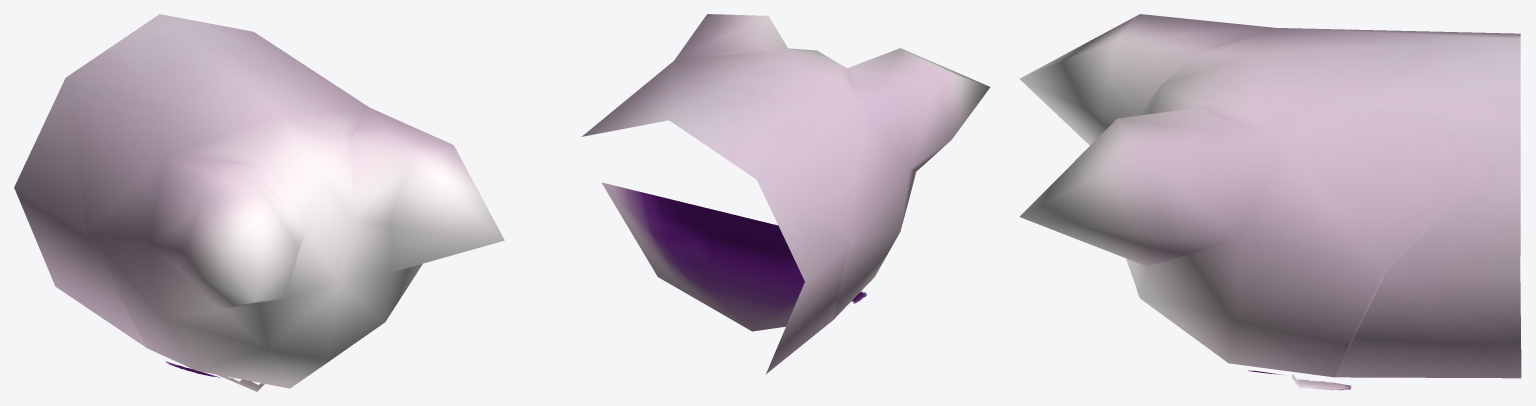
The model's file is model_nolegs-static.glb.
3 views of the same model, side by side, from view 1: azimuth 30°, elevation 25°; view 2: azimuth 150°, elevation 25°; view 3: azimuth 270°, elevation 25° (orthographic). The views are drawn at different scales.
Parts seen in each view (by area): view 1: spookat.model_nolegs-static-Mesh[0]; view 2: spookat.model_nolegs-static-Mesh[0]; view 3: spookat.model_nolegs-static-Mesh[0].
Part boxes in pixels (x1,y1,x2,y2): spookat.model_nolegs-static-Mesh[0]: (14,14,504,391); spookat.model_nolegs-static-Mesh[0]: (582,14,990,373); spookat.model_nolegs-static-Mesh[0]: (1019,14,1521,390).
Size of the model in its own units: 0.8418 by 0.8558 by 1.11.
Materials: 1 (1 with a texture image).
